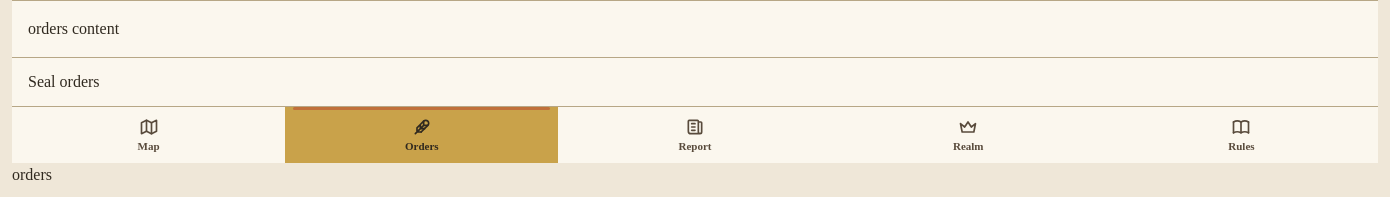
it: GameDrawer on a phone › shows the seal footer under the orders only
The width and height of the screenshot is (1390, 197).
Expected: the button "Seal orders" is shown, top-left (28, 70), bottom-right (100, 94)
Click the tab "Realm" at (968, 135), box top-left (832, 107), bottom-right (1105, 163)
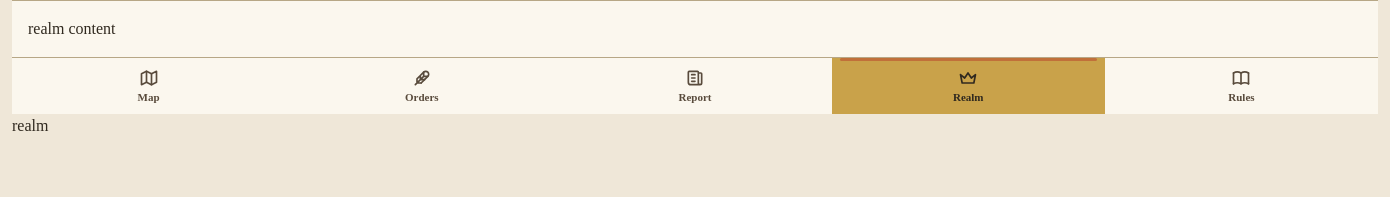
Now the button "Seal orders" is gone
